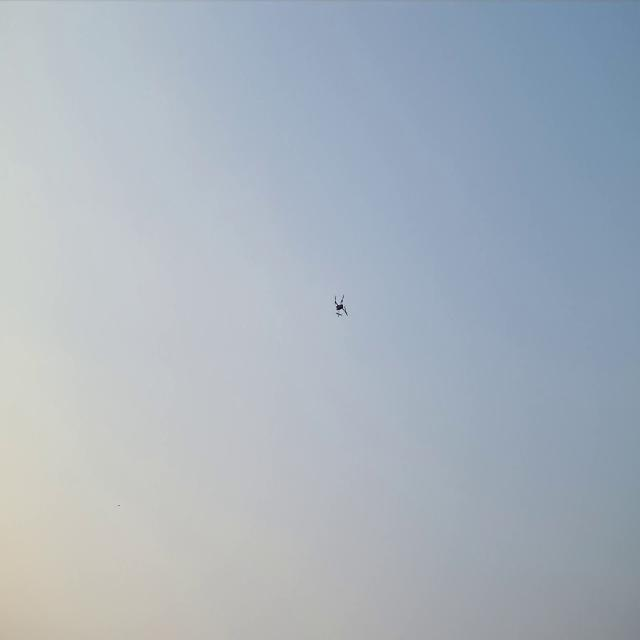UAV: (332, 292, 351, 320)
